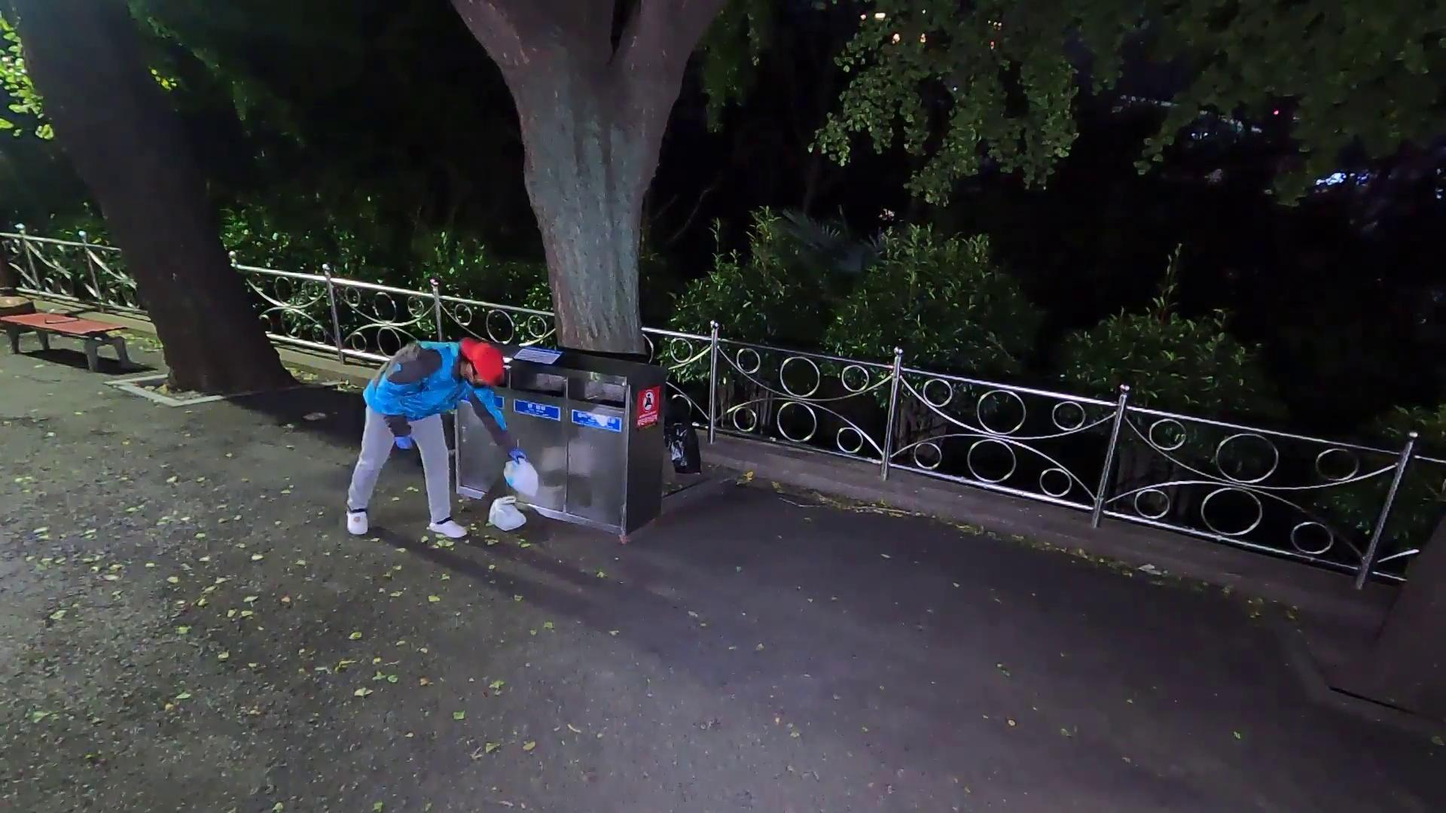person: (342, 336, 520, 544)
trash: (669, 421, 701, 476), (488, 494, 528, 531), (503, 461, 541, 497)
